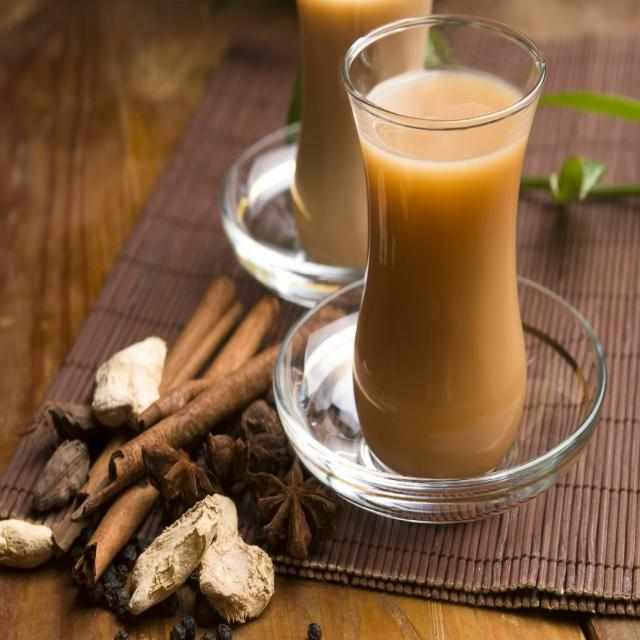Chai: (350, 73, 534, 467)
